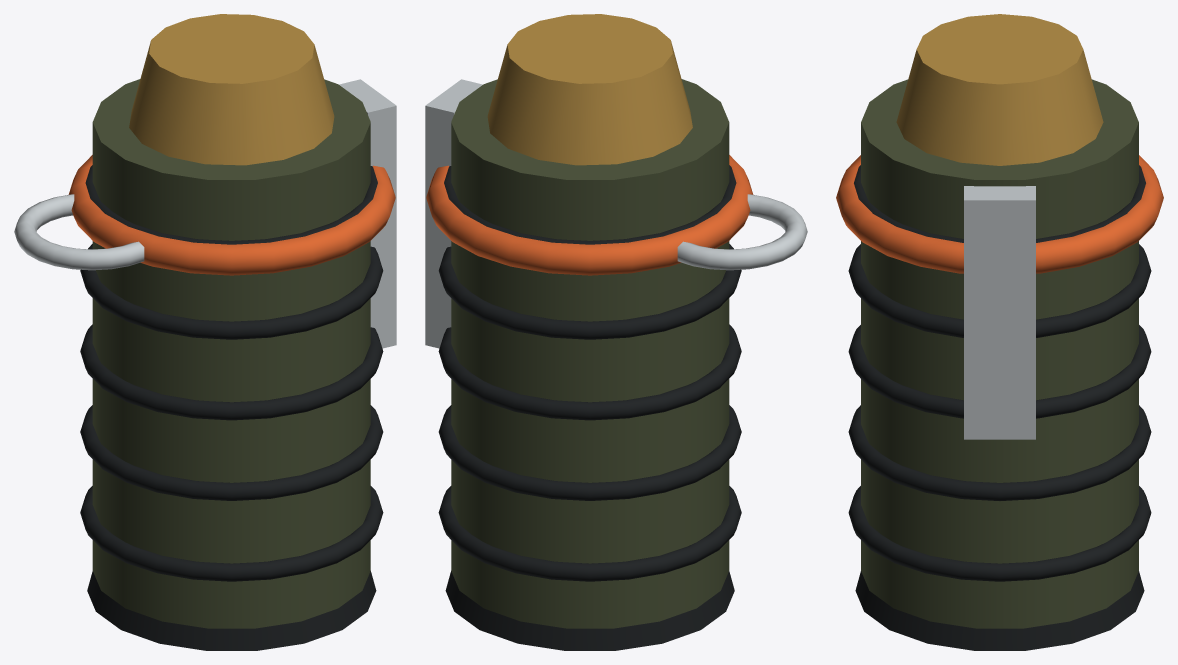
Rendered from smoke.glb.
3 views of the same model, side by side, from view 1: azimuth 30°, elevation 25°; view 2: azimuth 150°, elevation 25°; view 3: azimuth 270°, elevation 25° (orthographic).
Visible parts, largest first — view 1: smoke; view 2: smoke; view 3: smoke.
Boxes of the visible parts, bbox=[...] form: smoke: bbox=[14, 14, 396, 650]; smoke: bbox=[425, 14, 807, 650]; smoke: bbox=[836, 14, 1163, 650].
Size of the model in its own units: 0.147 by 0.215 by 0.118.
